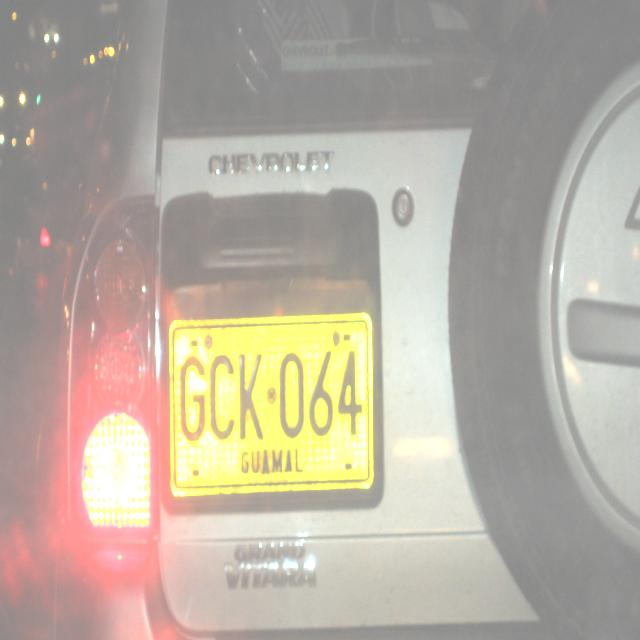placa: (163, 305, 377, 502)
